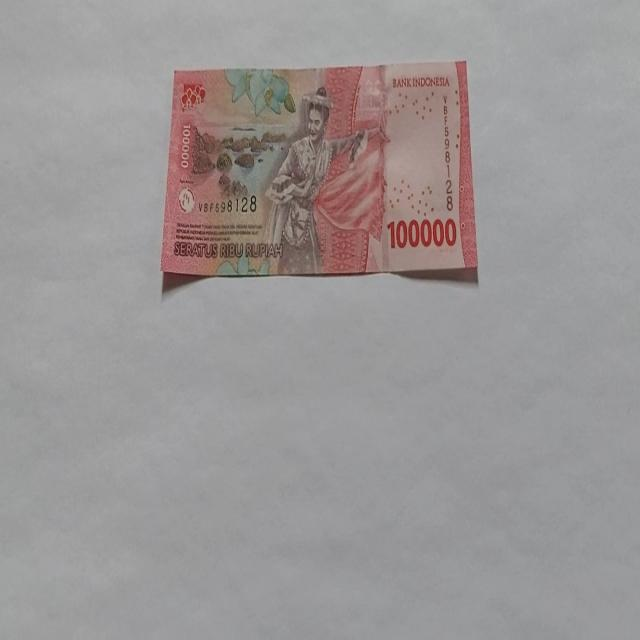seratus ribu rupiah: (160, 61, 478, 282), (260, 85, 382, 275)
